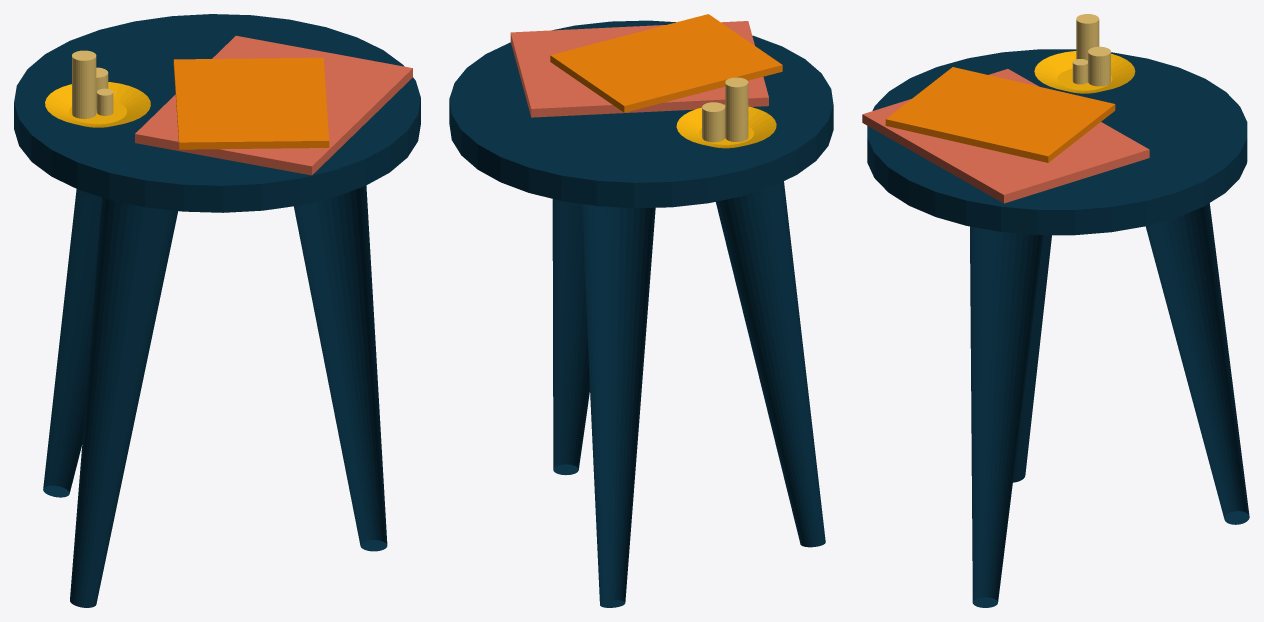
The model's file is MESA-CAFE-2.glb.
3 views of the same model, side by side, from view 1: azimuth 30°, elevation 25°; view 2: azimuth 150°, elevation 25°; view 3: azimuth 270°, elevation 25° (orthographic). The views are drawn at different scales.
Visible parts, largest first — view 1: MESA-CAFE-2; view 2: MESA-CAFE-2; view 3: MESA-CAFE-2.
Part boxes in pixels (x1,y1,x2,y2): MESA-CAFE-2: (14,14,420,607); MESA-CAFE-2: (449,14,833,607); MESA-CAFE-2: (862,14,1249,607).
Size of the model in its own units: 1.09 by 1.52 by 1.11.
Materials: 1 (1 with a texture image).
